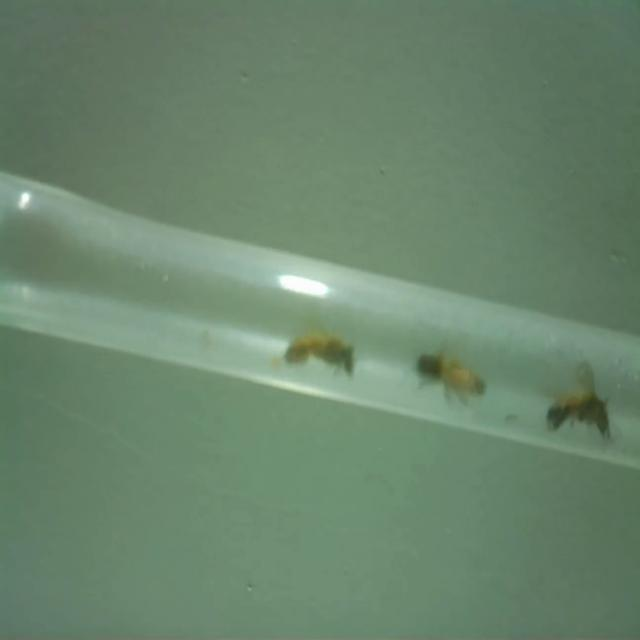Honeybee-Detection: (546, 361, 611, 439), (281, 313, 356, 378), (415, 345, 487, 407)
